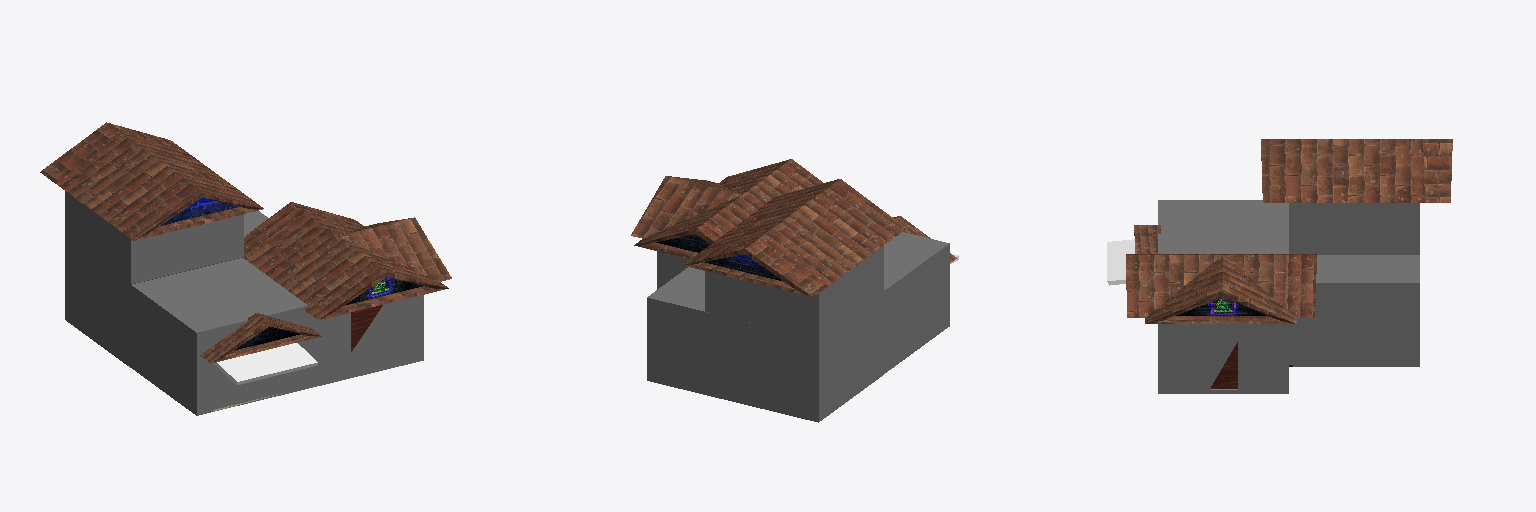
3 views of the same model, side by side, from view 1: azimuth 30°, elevation 25°; view 2: azimuth 150°, elevation 25°; view 3: azimuth 270°, elevation 25° (orthographic).
Visible parts, largest first — view 1: Sala2_Cube_002_Sala2_Cube_002_Material_001, Plane_001_Plane_006_Plane_001_Plane_006_None, TechoTriangular1_Plane_TechoTriangular1_Plane_None, Sala2_001_Cube_007_Sala2_001_Cube_007_Material_001, Sala1_Cube_Sala1_Cube_Material_001, Sala3_Cube_005_Sala3_Cube_005_Material_001, TechoTriangular2_Plane_002_TechoTriangular2_Plane_002_None, TechoTriangular1_002_Plane_005_TechoTriangular1_002_Plane_005_No, PuertaCochera_Cube_004_None, Plane_002_Plane_003_Plane_002_Plane_003_None; view 2: Sala3_Cube_005_Sala3_Cube_005_Material_001, Plane_001_Plane_006_Plane_001_Plane_006_None, Sala2_001_Cube_007_Sala2_001_Cube_007_Material_001, Sala2_Cube_002_Sala2_Cube_002_Material_001, TechoTriangular1_Plane_TechoTriangular1_Plane_None, TechoTriangular2_Plane_002_TechoTriangular2_Plane_002_None, Plane_002_Plane_003_Plane_002_Plane_003_None, Sala1_Cube_Sala1_Cube_Material_001; view 3: Sala3_Cube_005_Sala3_Cube_005_Material_001, Plane_001_Plane_006_Plane_001_Plane_006_None, Sala1_Cube_Sala1_Cube_Material_001, Sala2_Cube_002_Sala2_Cube_002_Material_001, Sala2_001_Cube_007_Sala2_001_Cube_007_Material_001, TechoTriangular2_Plane_002_TechoTriangular2_Plane_002_None, TechoTriangular1_Plane_TechoTriangular1_Plane_None, Plane_002_Plane_003_Plane_002_Plane_003_None, PuertaCochera_Cube_004_None, TechoTriangular1_002_Plane_005_TechoTriangular1_002_Plane_005_No.
Boxes of the visible parts, x1,y1,x2,y2 form: Sala2_Cube_002_Sala2_Cube_002_Material_001: [131, 258, 309, 415]; Plane_001_Plane_006_Plane_001_Plane_006_None: [40, 122, 263, 240]; TechoTriangular1_Plane_TechoTriangular1_Plane_None: [245, 213, 448, 319]; Sala2_001_Cube_007_Sala2_001_Cube_007_Material_001: [65, 191, 243, 284]; Sala1_Cube_Sala1_Cube_Material_001: [310, 295, 423, 387]; Sala3_Cube_005_Sala3_Cube_005_Material_001: [65, 211, 268, 367]; TechoTriangular2_Plane_002_TechoTriangular2_Plane_002_None: [339, 217, 451, 281]; TechoTriangular1_002_Plane_005_TechoTriangular1_002_Plane_005_No: [200, 313, 321, 363]; PuertaCochera_Cube_004_None: [213, 343, 317, 384]; Plane_002_Plane_003_Plane_002_Plane_003_None: [243, 202, 364, 258]; Sala3_Cube_005_Sala3_Cube_005_Material_001: [647, 267, 883, 422]; Plane_001_Plane_006_Plane_001_Plane_006_None: [683, 179, 906, 296]; Sala2_001_Cube_007_Sala2_001_Cube_007_Material_001: [705, 246, 883, 338]; Sala2_Cube_002_Sala2_Cube_002_Material_001: [884, 232, 949, 373]; TechoTriangular1_Plane_TechoTriangular1_Plane_None: [661, 159, 822, 230]; TechoTriangular2_Plane_002_TechoTriangular2_Plane_002_None: [631, 176, 741, 238]; Plane_002_Plane_003_Plane_002_Plane_003_None: [634, 218, 728, 258]; Sala1_Cube_Sala1_Cube_Material_001: [657, 251, 689, 289]; Sala3_Cube_005_Sala3_Cube_005_Material_001: [1289, 255, 1419, 366]; Plane_001_Plane_006_Plane_001_Plane_006_None: [1261, 139, 1452, 202]; Sala1_Cube_Sala1_Cube_Material_001: [1158, 324, 1288, 393]; Sala2_Cube_002_Sala2_Cube_002_Material_001: [1158, 200, 1288, 253]; Sala2_001_Cube_007_Sala2_001_Cube_007_Material_001: [1289, 203, 1419, 254]; TechoTriangular2_Plane_002_TechoTriangular2_Plane_002_None: [1145, 255, 1296, 323]; TechoTriangular1_Plane_TechoTriangular1_Plane_None: [1126, 254, 1285, 317]; Plane_002_Plane_003_Plane_002_Plane_003_None: [1285, 254, 1316, 317]; PuertaCochera_Cube_004_None: [1107, 239, 1134, 285]; TechoTriangular1_002_Plane_005_TechoTriangular1_002_Plane_005_No: [1134, 225, 1160, 253].
Size of the model in its own units: 68.93 by 43.25 by 78.97.
9 materials, 6 textured.